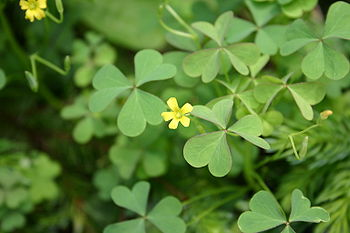oxalis: (204, 11, 349, 87), (75, 41, 172, 144), (195, 83, 260, 178), (100, 172, 183, 233), (237, 184, 335, 233)
